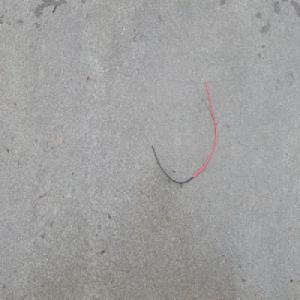Wire: (145, 74, 217, 184)
